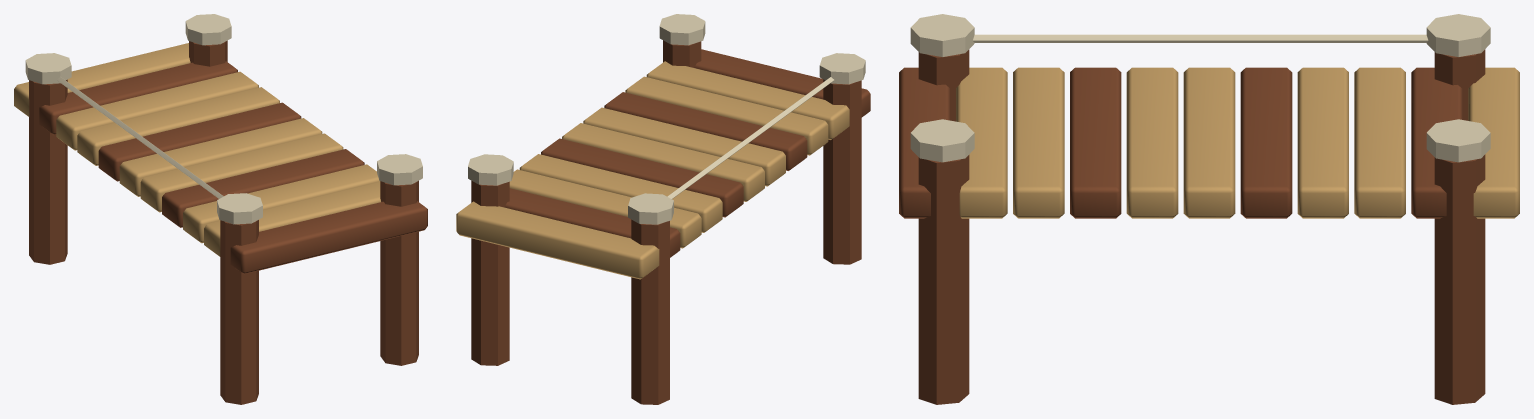
Rendered from pier.glb.
3 views of the same model, side by side, from view 1: azimuth 30°, elevation 25°; view 2: azimuth 150°, elevation 25°; view 3: azimuth 270°, elevation 25° (orthographic). The views are drawn at different scales.
Parts seen in each view (by area): view 1: PierMesh; view 2: PierMesh; view 3: PierMesh.
Part boxes in pixels (x1,y1,x2,y2): PierMesh: [14, 14, 427, 404]; PierMesh: [456, 14, 870, 404]; PierMesh: [899, 14, 1519, 404].
Size of the model in its own units: 0.88 by 0.81 by 1.75.
